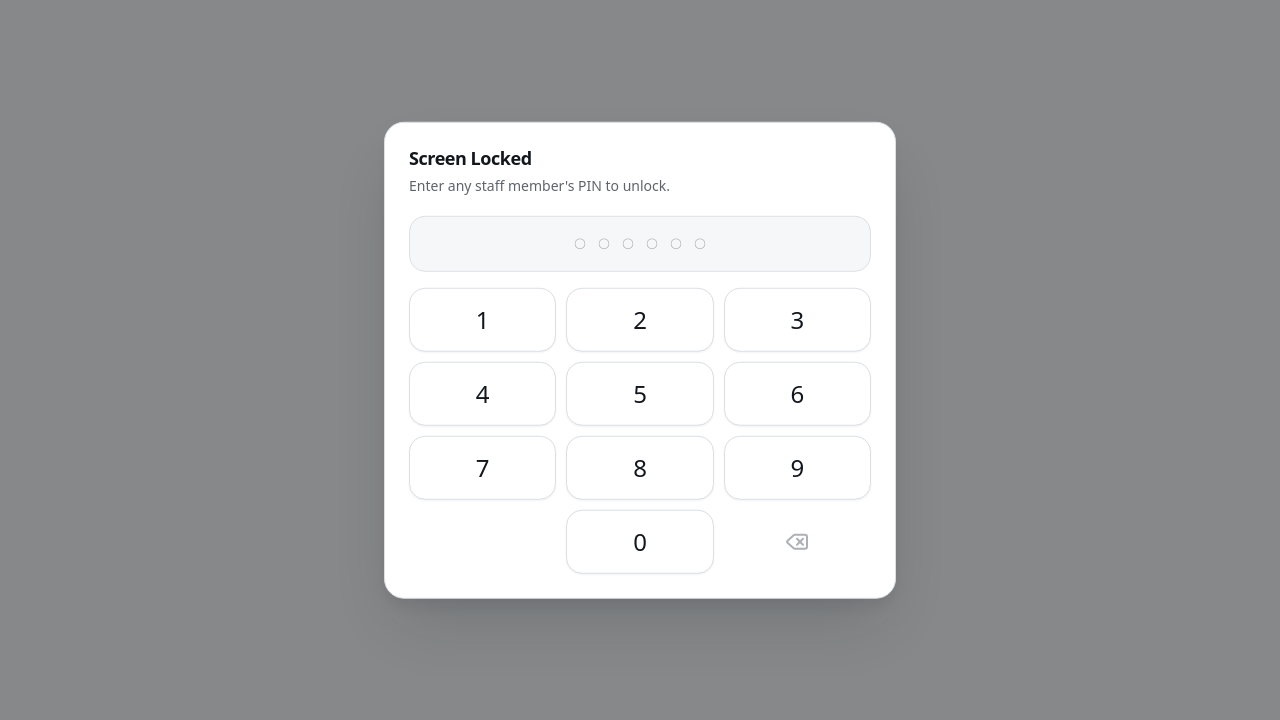
it: IdleLockOverlay › offline + checkOfflineUnlock resolves false shows the offline-only-same-user message
What coordinates should you click on to do the following:
click the button "5"
I would click on:
 (640, 393)
Its box is 566,361 -> 714,425.
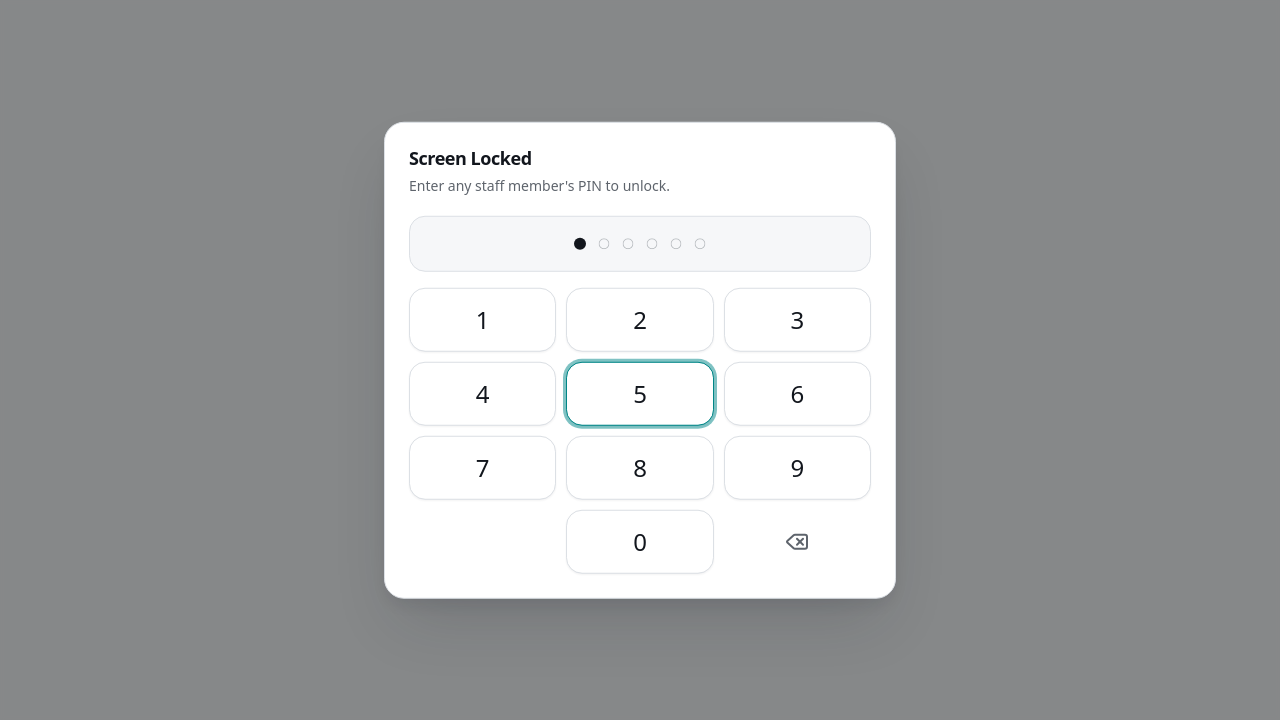
What coordinates should you click on to do the following:
click the button "5"
I would click on:
 (640, 393)
Its box is 566,361 -> 714,425.
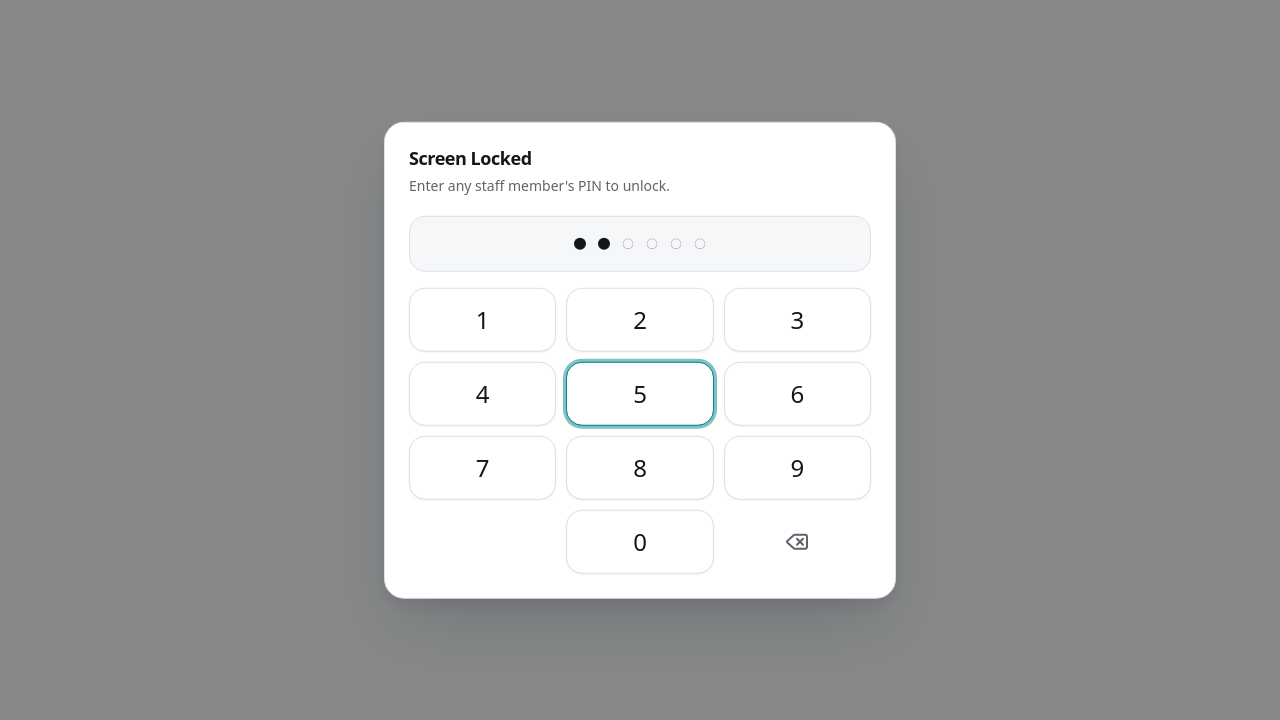
What coordinates should you click on to do the following:
click the button "5"
I would click on:
 (640, 393)
Its box is 566,361 -> 714,425.
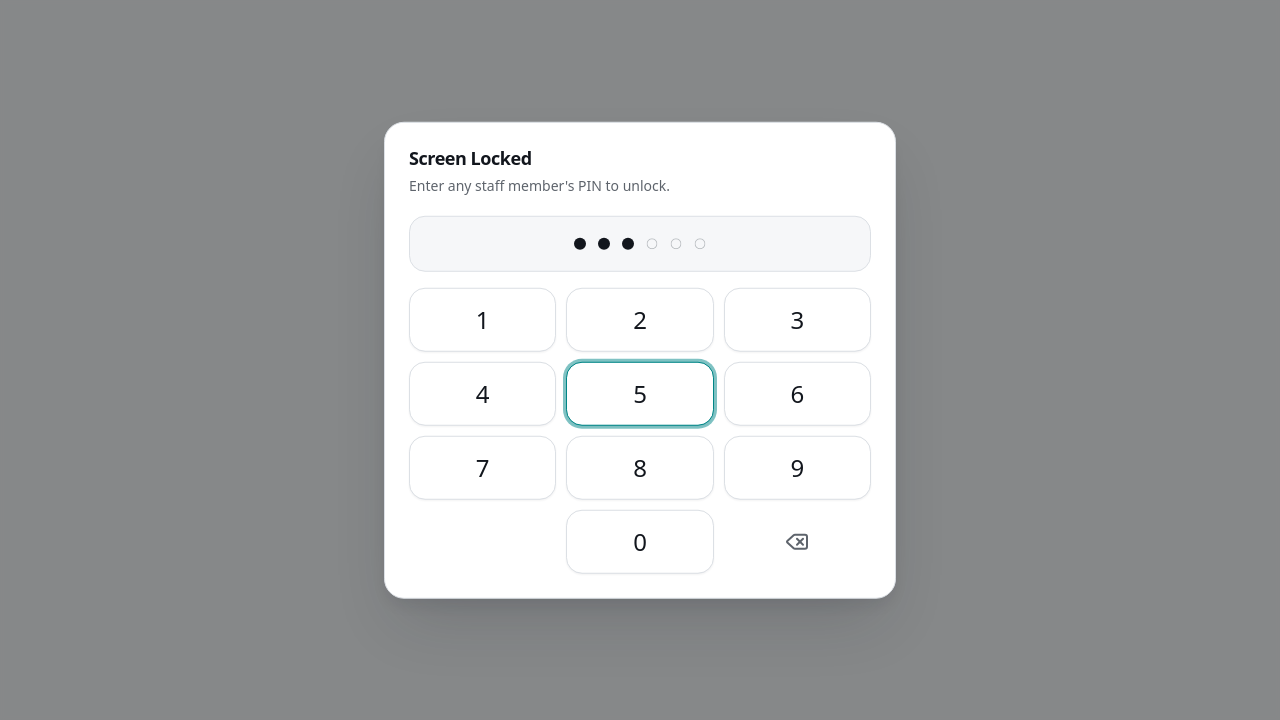
What coordinates should you click on to do the following:
click the button "5"
I would click on:
 (640, 393)
Its box is 566,361 -> 714,425.
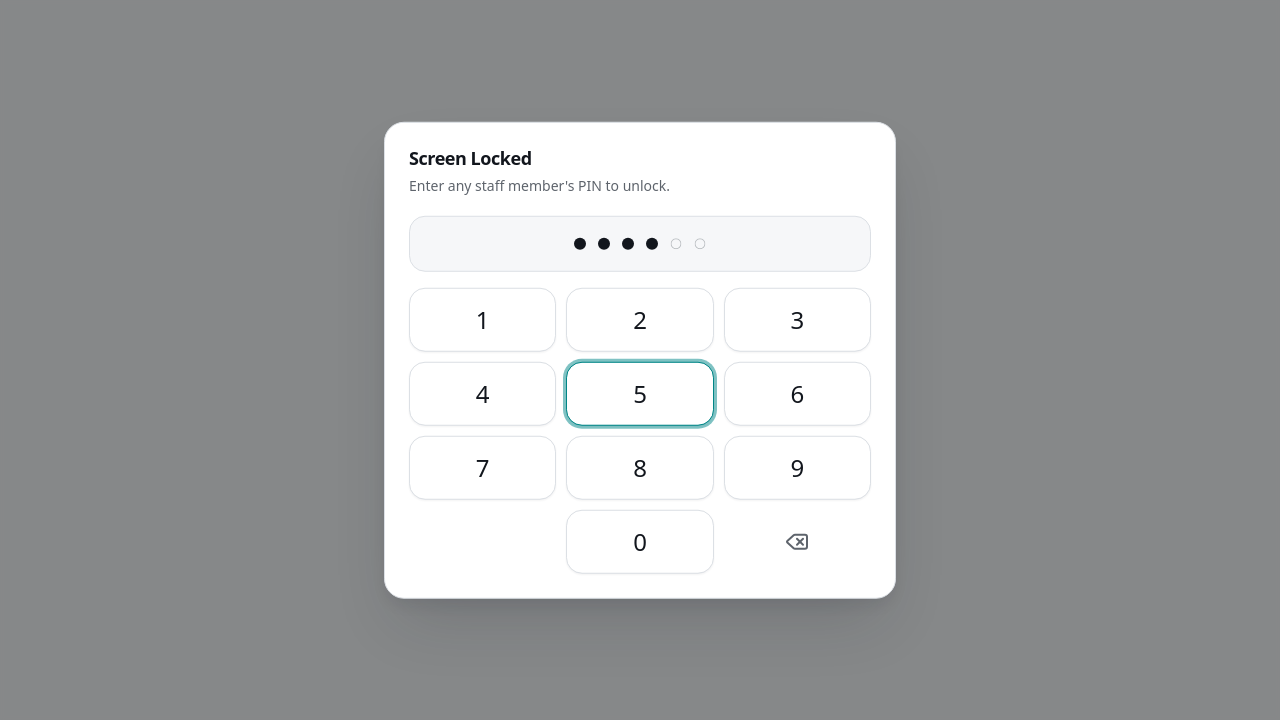
What coordinates should you click on to do the following:
click the button "5"
I would click on:
 (640, 393)
Its box is 566,361 -> 714,425.
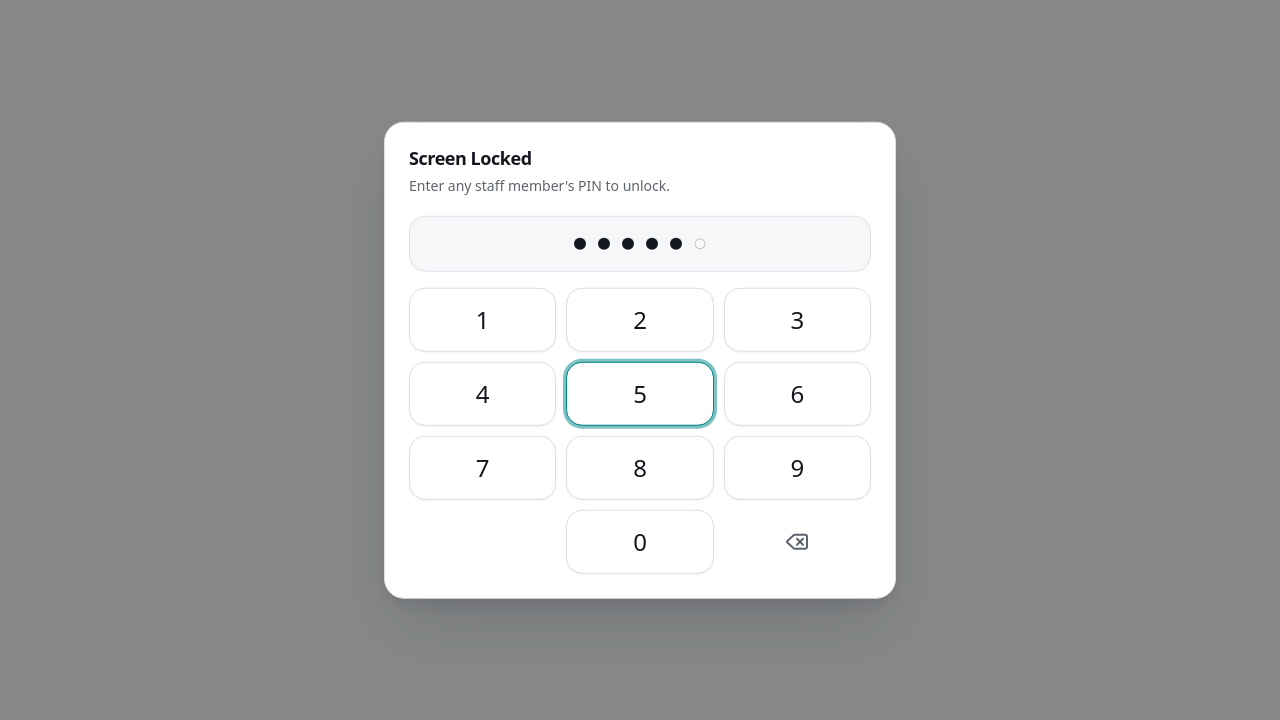
What coordinates should you click on to do the following:
click the button "5"
I would click on:
 (640, 393)
Its box is 566,361 -> 714,425.
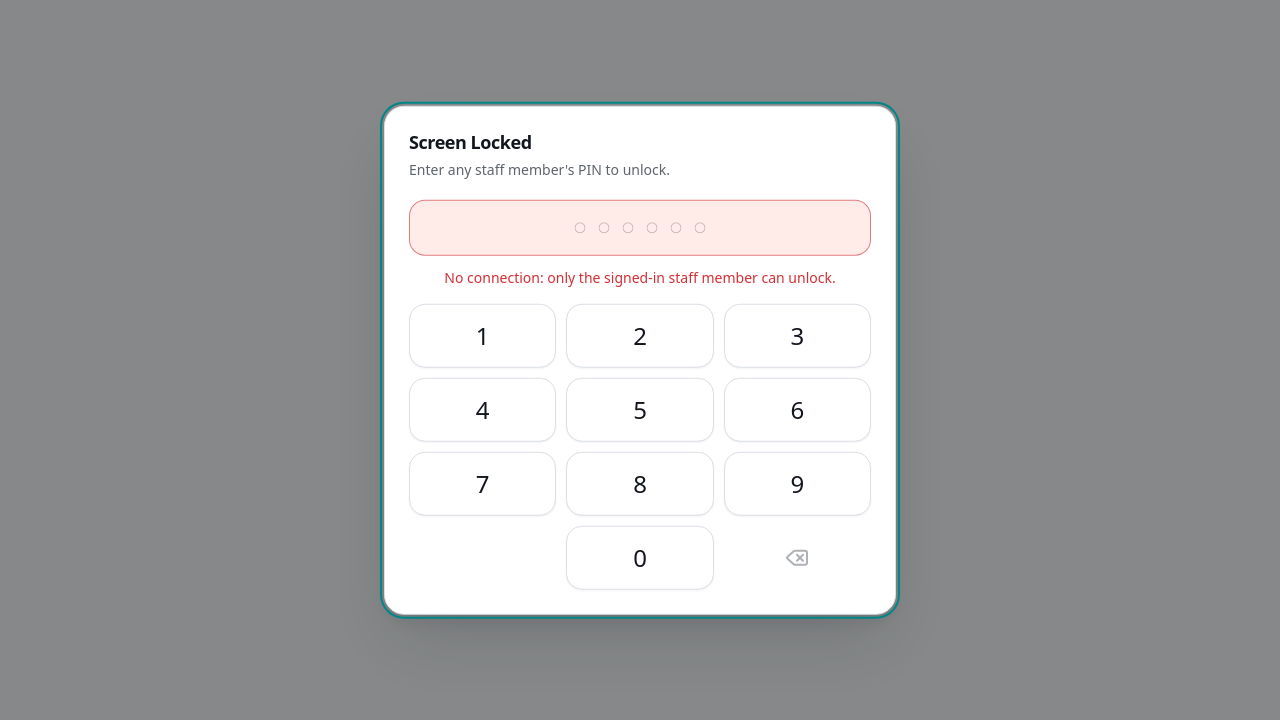
Check: the text "No connection: only the signed-in staff member can unlock." is shown, box 444,267 -> 836,286
